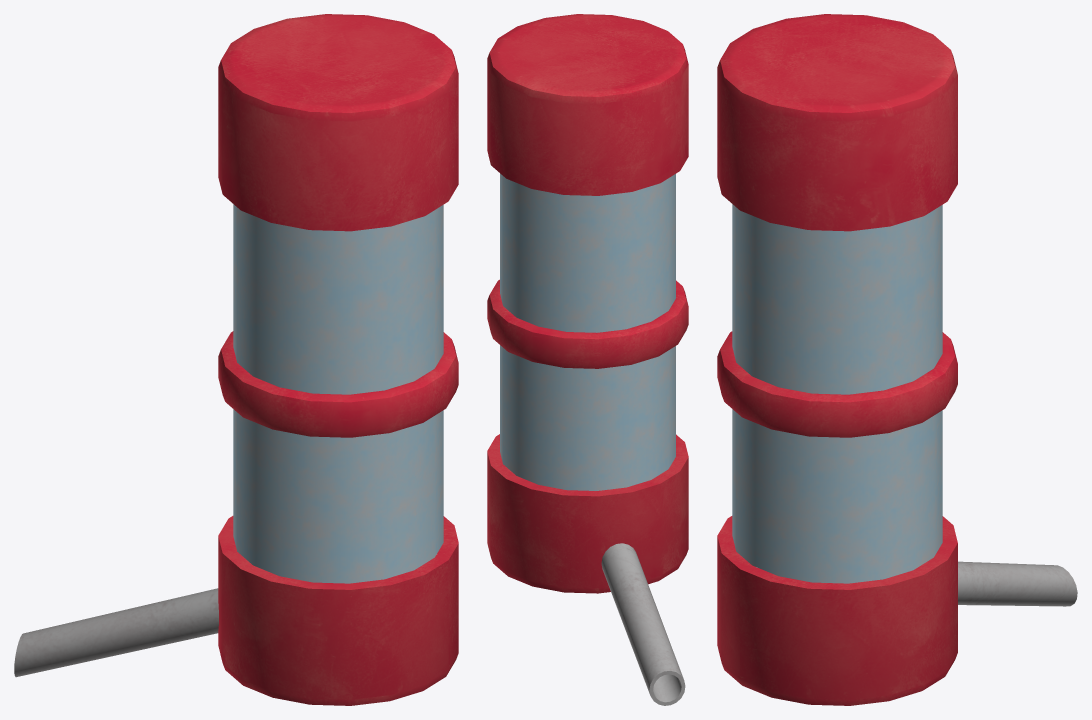
File: Feeder.fbx
The picture shows the model from 3 angles, left to right: view 1: azimuth 30°, elevation 25°; view 2: azimuth 150°, elevation 25°; view 3: azimuth 270°, elevation 25°; orthographic projection. The views are drawn at different scales.
Visible parts, largest first — view 1: Food Dispenser; view 2: Food Dispenser; view 3: Food Dispenser.
Part boxes in pixels (box(x1,y1,x2,y2)): Food Dispenser: box(14, 14, 458, 705); Food Dispenser: box(487, 14, 688, 705); Food Dispenser: box(717, 14, 1077, 705).
Size of the model in its own units: 11.16 by 10.75 by 21.25.
